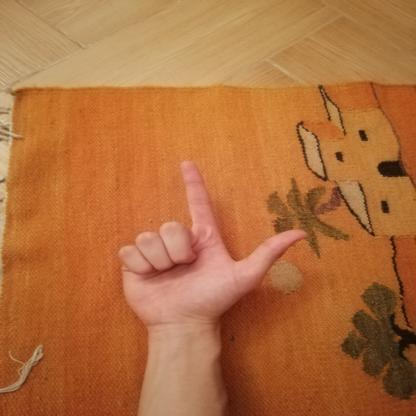LAAM: (101, 150, 317, 334)
